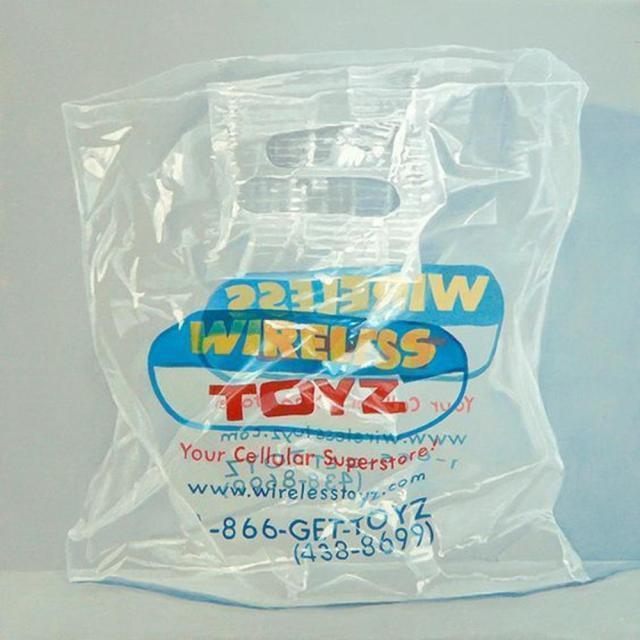KantongPlastik: (60, 44, 592, 608)
